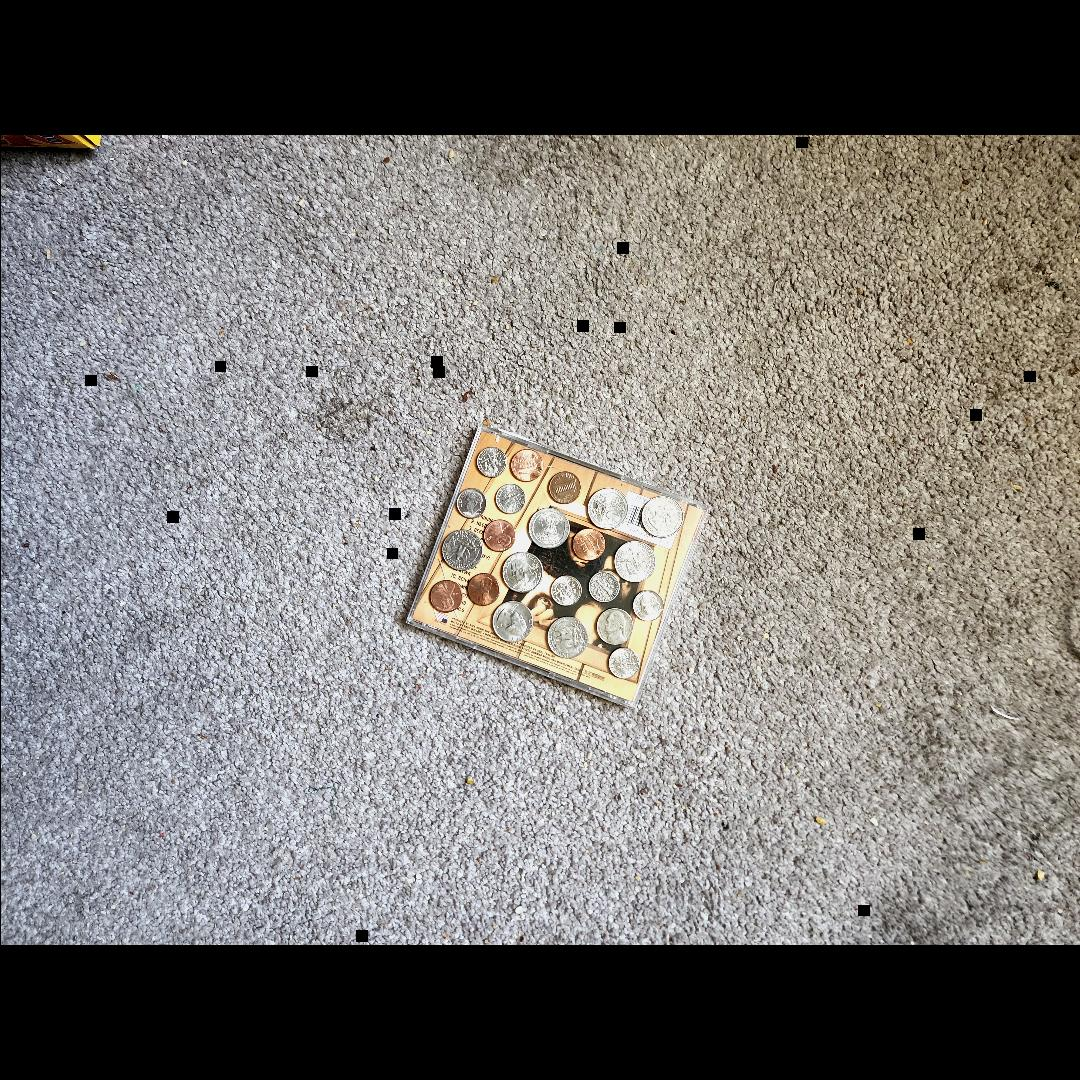Dime: (494, 483, 524, 515), (608, 648, 638, 678), (550, 576, 580, 606), (588, 572, 618, 602), (476, 447, 505, 477), (455, 490, 484, 518), (634, 592, 662, 620)
Nickel: (595, 610, 631, 645)
Penny: (466, 572, 498, 608), (572, 527, 604, 563), (510, 450, 542, 482), (429, 580, 461, 612), (548, 472, 580, 504), (483, 521, 514, 553)
Quarter: (641, 497, 681, 539), (588, 488, 628, 530), (492, 602, 532, 642), (548, 618, 587, 658), (502, 554, 542, 592), (614, 543, 654, 581), (527, 510, 567, 548), (442, 530, 480, 570)
